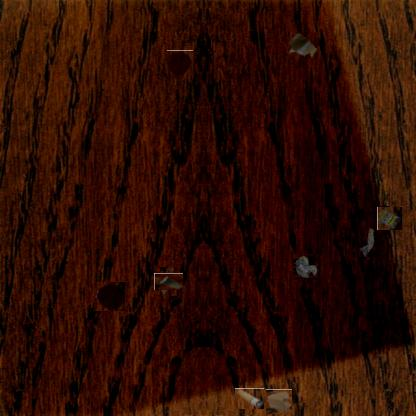dirty: (288, 32, 318, 60), (292, 254, 318, 280), (267, 389, 292, 415), (234, 388, 264, 409), (377, 206, 402, 230), (358, 227, 376, 257), (157, 270, 180, 293)
liquid: (94, 281, 126, 311), (167, 50, 193, 77)
